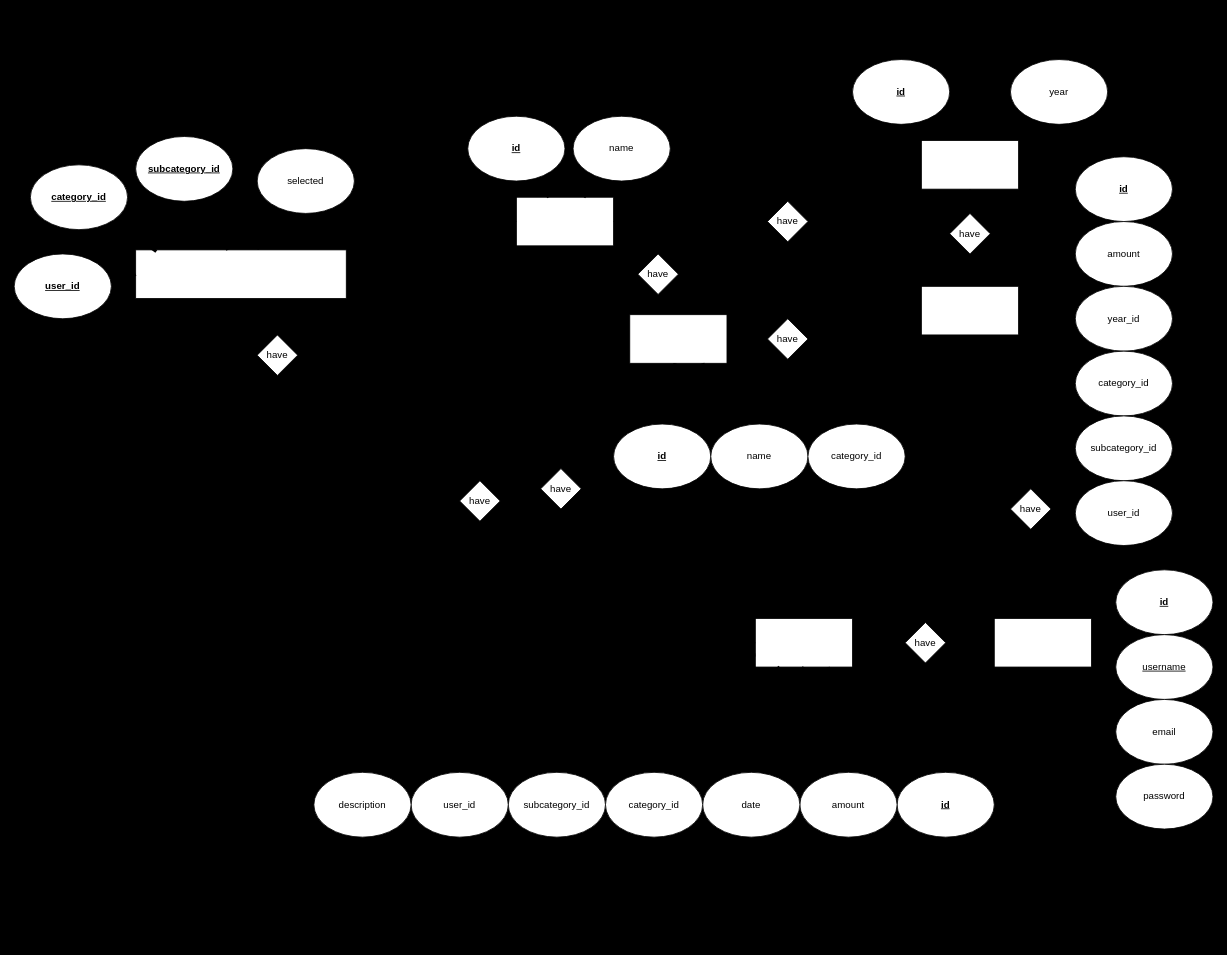
Some shapes in this 1227 by 955 pixel diagram are drawn without their labels. Each missing label, with the box of its shape:
Budget Items: (921, 286, 1019, 335)
Budget Years: (921, 140, 1019, 189)
Categories: (516, 196, 614, 246)
Subcategories: (629, 314, 727, 363)
Transactions: (755, 618, 853, 667)
Users: (993, 618, 1091, 667)
Users_Category_Subcategory_Selections: (135, 249, 346, 298)
